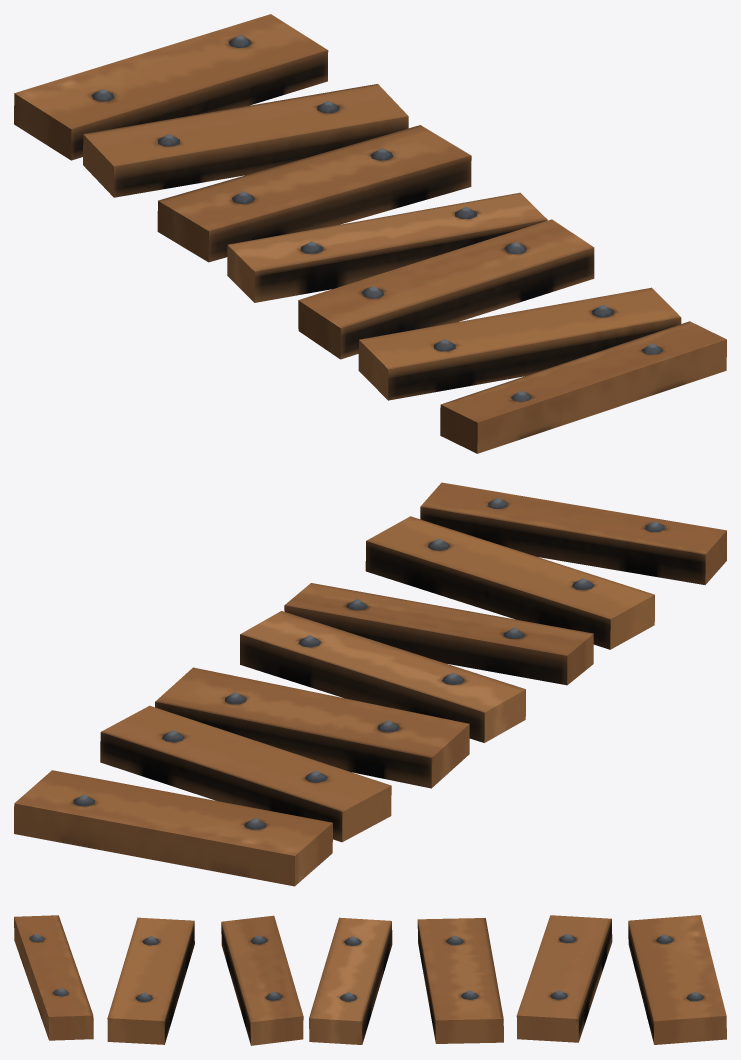
The model's file is Chemin_Sol.FBX.
3 renders of one model, top to bottom at view 1: azimuth 30°, elevation 25°; view 2: azimuth 150°, elevation 25°; view 3: azimuth 270°, elevation 25°, orthographic. The views are drawn at different scales.
Parts seen in each view (by area): view 1: Chemin_Sol; view 2: Chemin_Sol; view 3: Chemin_Sol.
Part boxes in pixels (left/top/right/bottom): Chemin_Sol: left=14, top=14, right=726, bottom=453; Chemin_Sol: left=14, top=482, right=726, bottom=886; Chemin_Sol: left=14, top=915, right=726, bottom=1045.
Bounding box in the file's own units: 4.04 × 0.6041 × 11.7.
